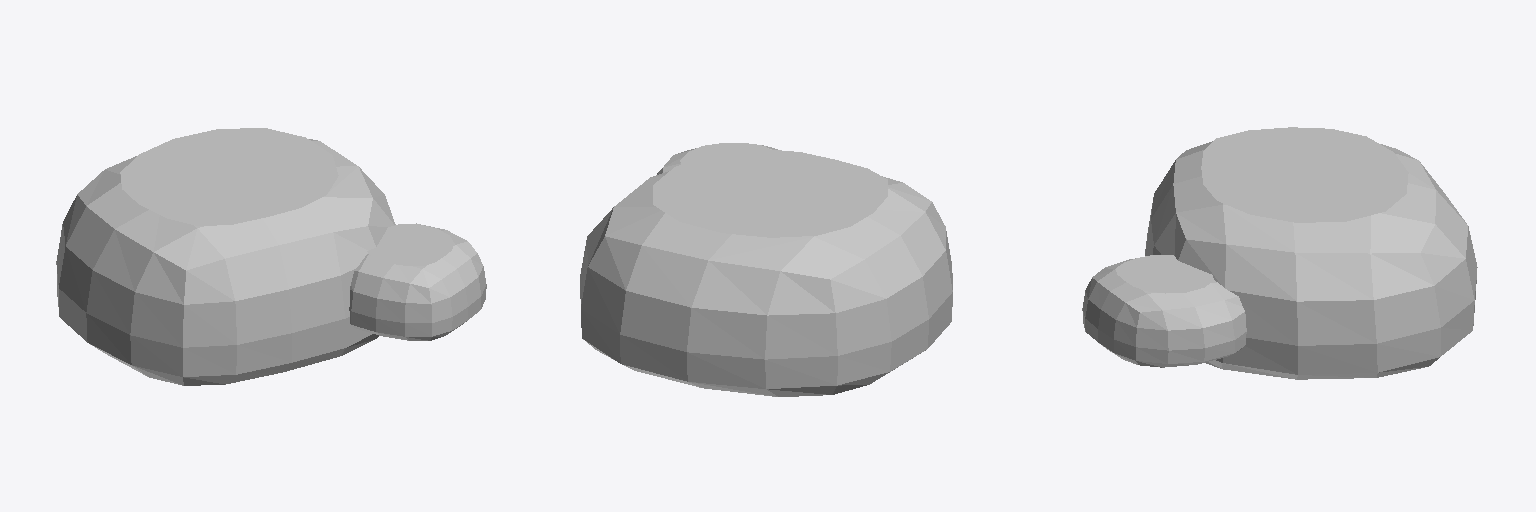
File: snow_rock_1.obj
3 renders of one model, left to right at view 1: azimuth 30°, elevation 25°; view 2: azimuth 150°, elevation 25°; view 3: azimuth 270°, elevation 25°, orthographic.
Visible parts, largest first — view 1: Cube.001, Cube.002; view 2: Cube.001, Cube.002; view 3: Cube.001, Cube.002.
Part boxes in pixels (x1,y1,x2,y2): Cube.001: (56, 139, 486, 385); Cube.002: (120, 128, 454, 265); Cube.001: (580, 145, 952, 396); Cube.002: (653, 143, 887, 237); Cube.001: (1082, 141, 1477, 379); Cube.002: (1116, 127, 1408, 293).
Bounding box in the file's own units: 2.96 × 1.27 × 3.06.